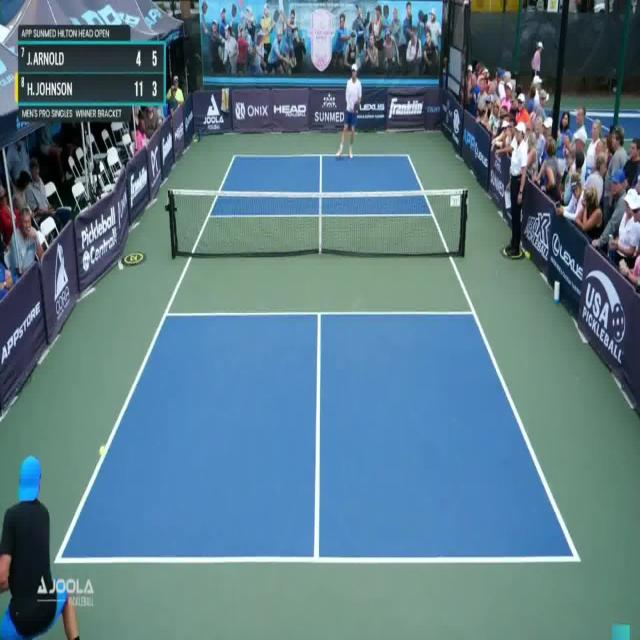Court: (57, 154, 575, 558)
ball: (100, 446, 108, 458)
